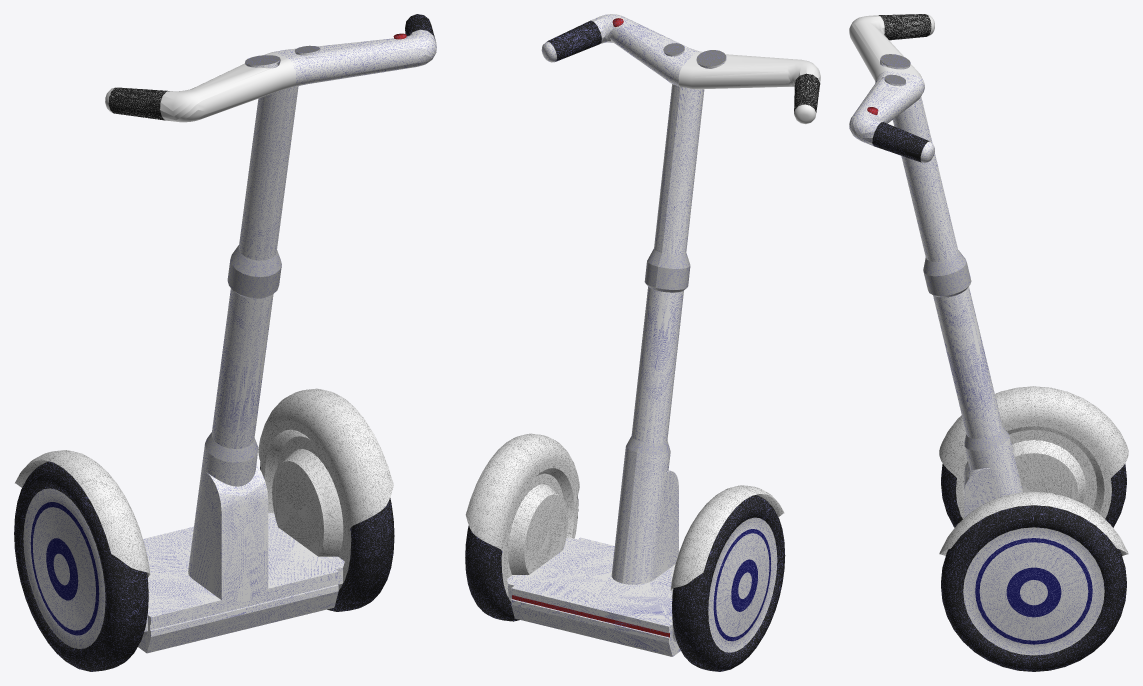
3 renders of one model, left to right at view 1: azimuth 30°, elevation 25°; view 2: azimuth 150°, elevation 25°; view 3: azimuth 270°, elevation 25°, orthographic. The views are drawn at different scales.
Visible parts, largest first — view 1: Chassis (×15), HandleBar (×3); view 2: Chassis (×15), HandleBar (×4); view 3: Chassis (×14), HandleBar (×4).
Part boxes in pixels (box(x1,y1,x2,y2)): Chassis (×15): box(14, 86, 394, 671); HandleBar (×3): box(108, 29, 436, 122); Chassis (×15): box(465, 84, 785, 671); HandleBar (×4): box(547, 14, 820, 113); Chassis (×14): box(893, 96, 1128, 671); HandleBar (×4): box(849, 14, 931, 162).
Size of the model in its own units: 29.45 by 25.59 by 55.73.
